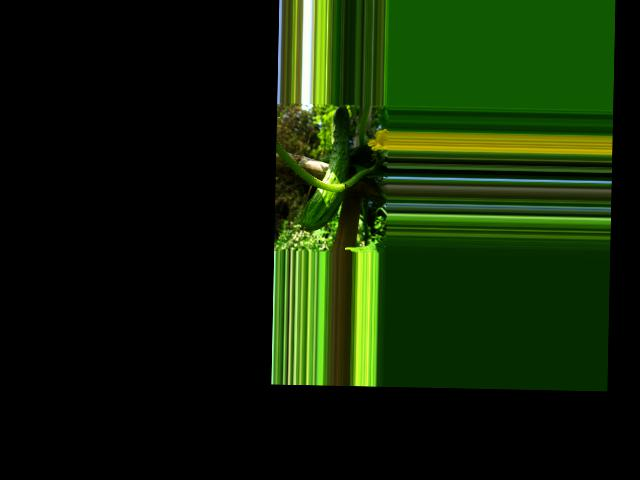cucumber: (301, 103, 350, 232)
